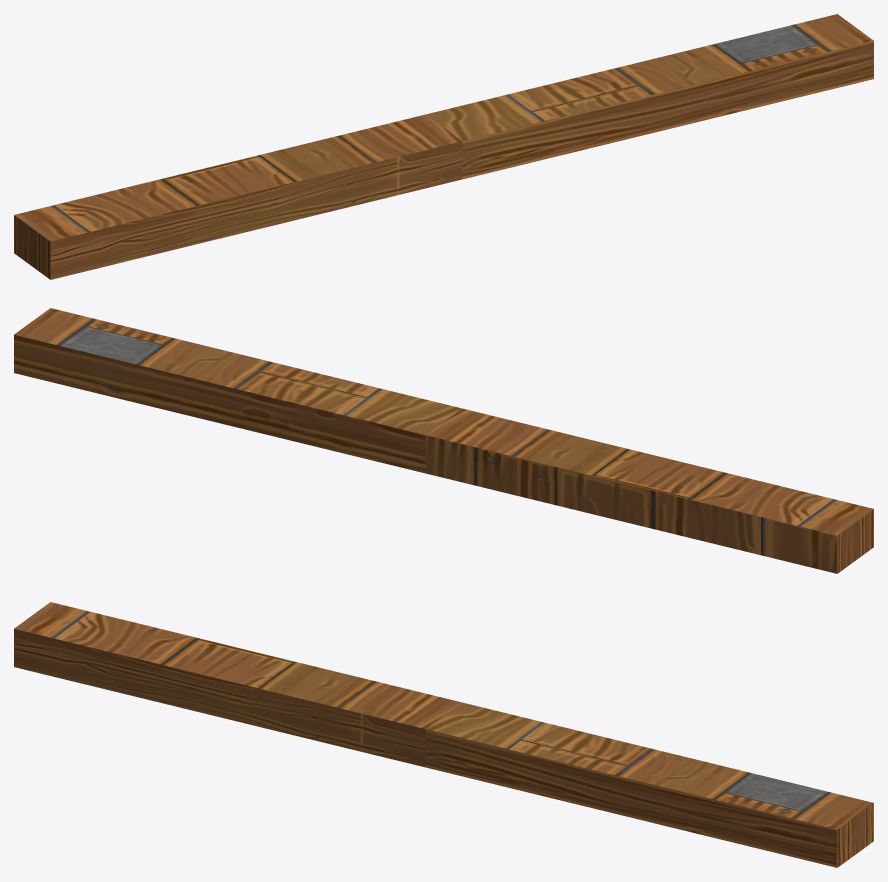
3 renders of one model, top to bottom at view 1: azimuth 30°, elevation 25°; view 2: azimuth 150°, elevation 25°; view 3: azimuth 330°, elevation 25°, orthographic.
Parts seen in each view (by area): view 1: 4x4.069; view 2: 4x4.069; view 3: 4x4.069.
Part boxes in pixels (x1=…): 4x4.069: x1=14, y1=14, x2=873, y2=279; 4x4.069: x1=14, y1=308, x2=873, y2=573; 4x4.069: x1=14, y1=602, x2=873, y2=867.
Size of the model in its own units: 929 by 41.28 by 71.41.
Materials: 1 (1 with a texture image).
